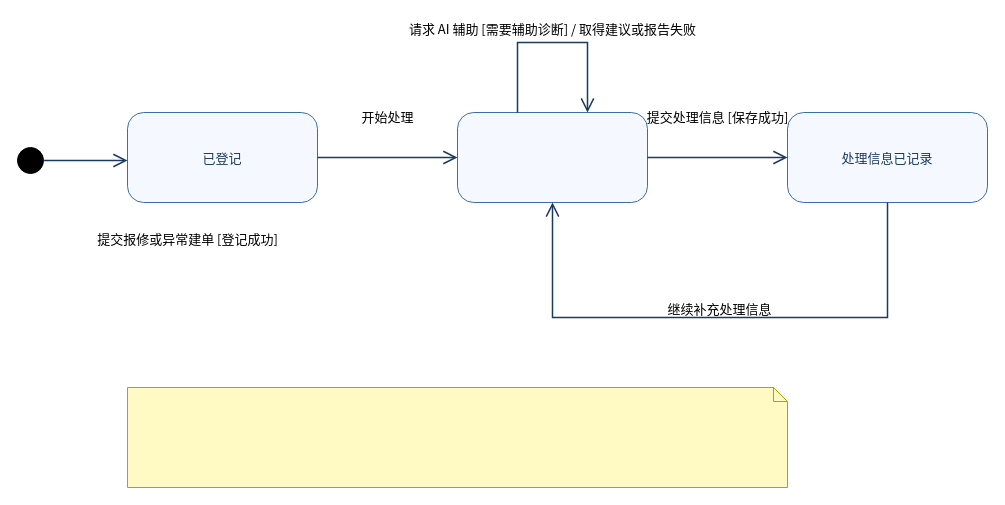
The diagram is 1005 pixels wide and 505 high, and some of its shapes have lost their labels. Here are the shapes that lost their labels. From the top down, the centre of each, then its label:
point (552, 157): 处理中
point (457, 437): 候选信息生命周期：未规定关闭状态与审批流， 关闭条件满足前不设终止状态。 AI 辅助不推进状态；工单最终状态集与关闭条件待明确。
